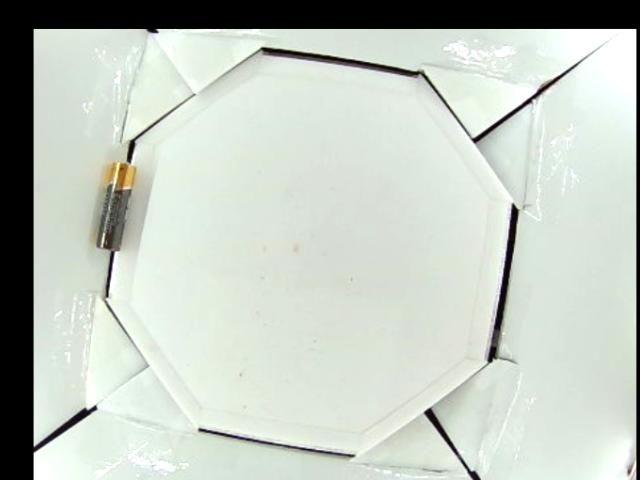Battery: (94, 159, 136, 252)
